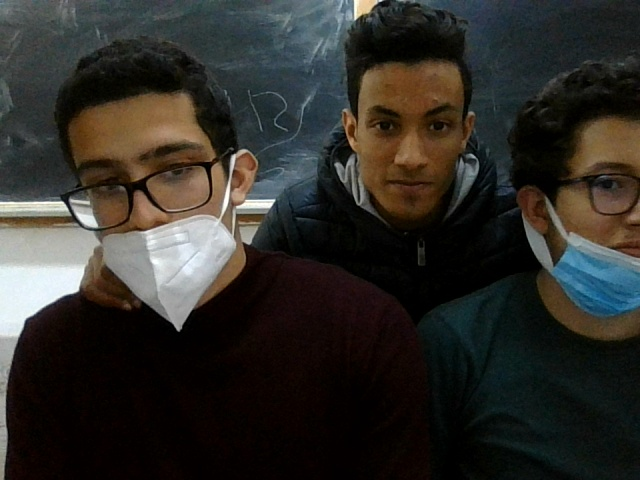mask_weared_incorrect: (70, 140, 238, 293), (567, 149, 640, 311)
without_mask: (360, 94, 466, 201)
